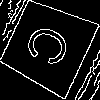C: (23, 21, 81, 74)
